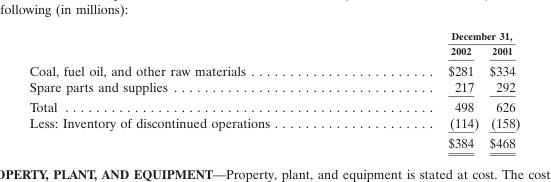table: (28, 29, 519, 150)
table column: (28, 29, 358, 150), (358, 29, 483, 150), (483, 29, 519, 150)
table column header: (28, 29, 519, 59)
table row: (28, 59, 519, 78), (28, 78, 519, 96), (28, 96, 519, 114), (28, 114, 519, 132), (28, 132, 519, 150), (28, 42, 519, 59), (28, 29, 519, 42)
table spanning cell: (358, 29, 519, 42)
